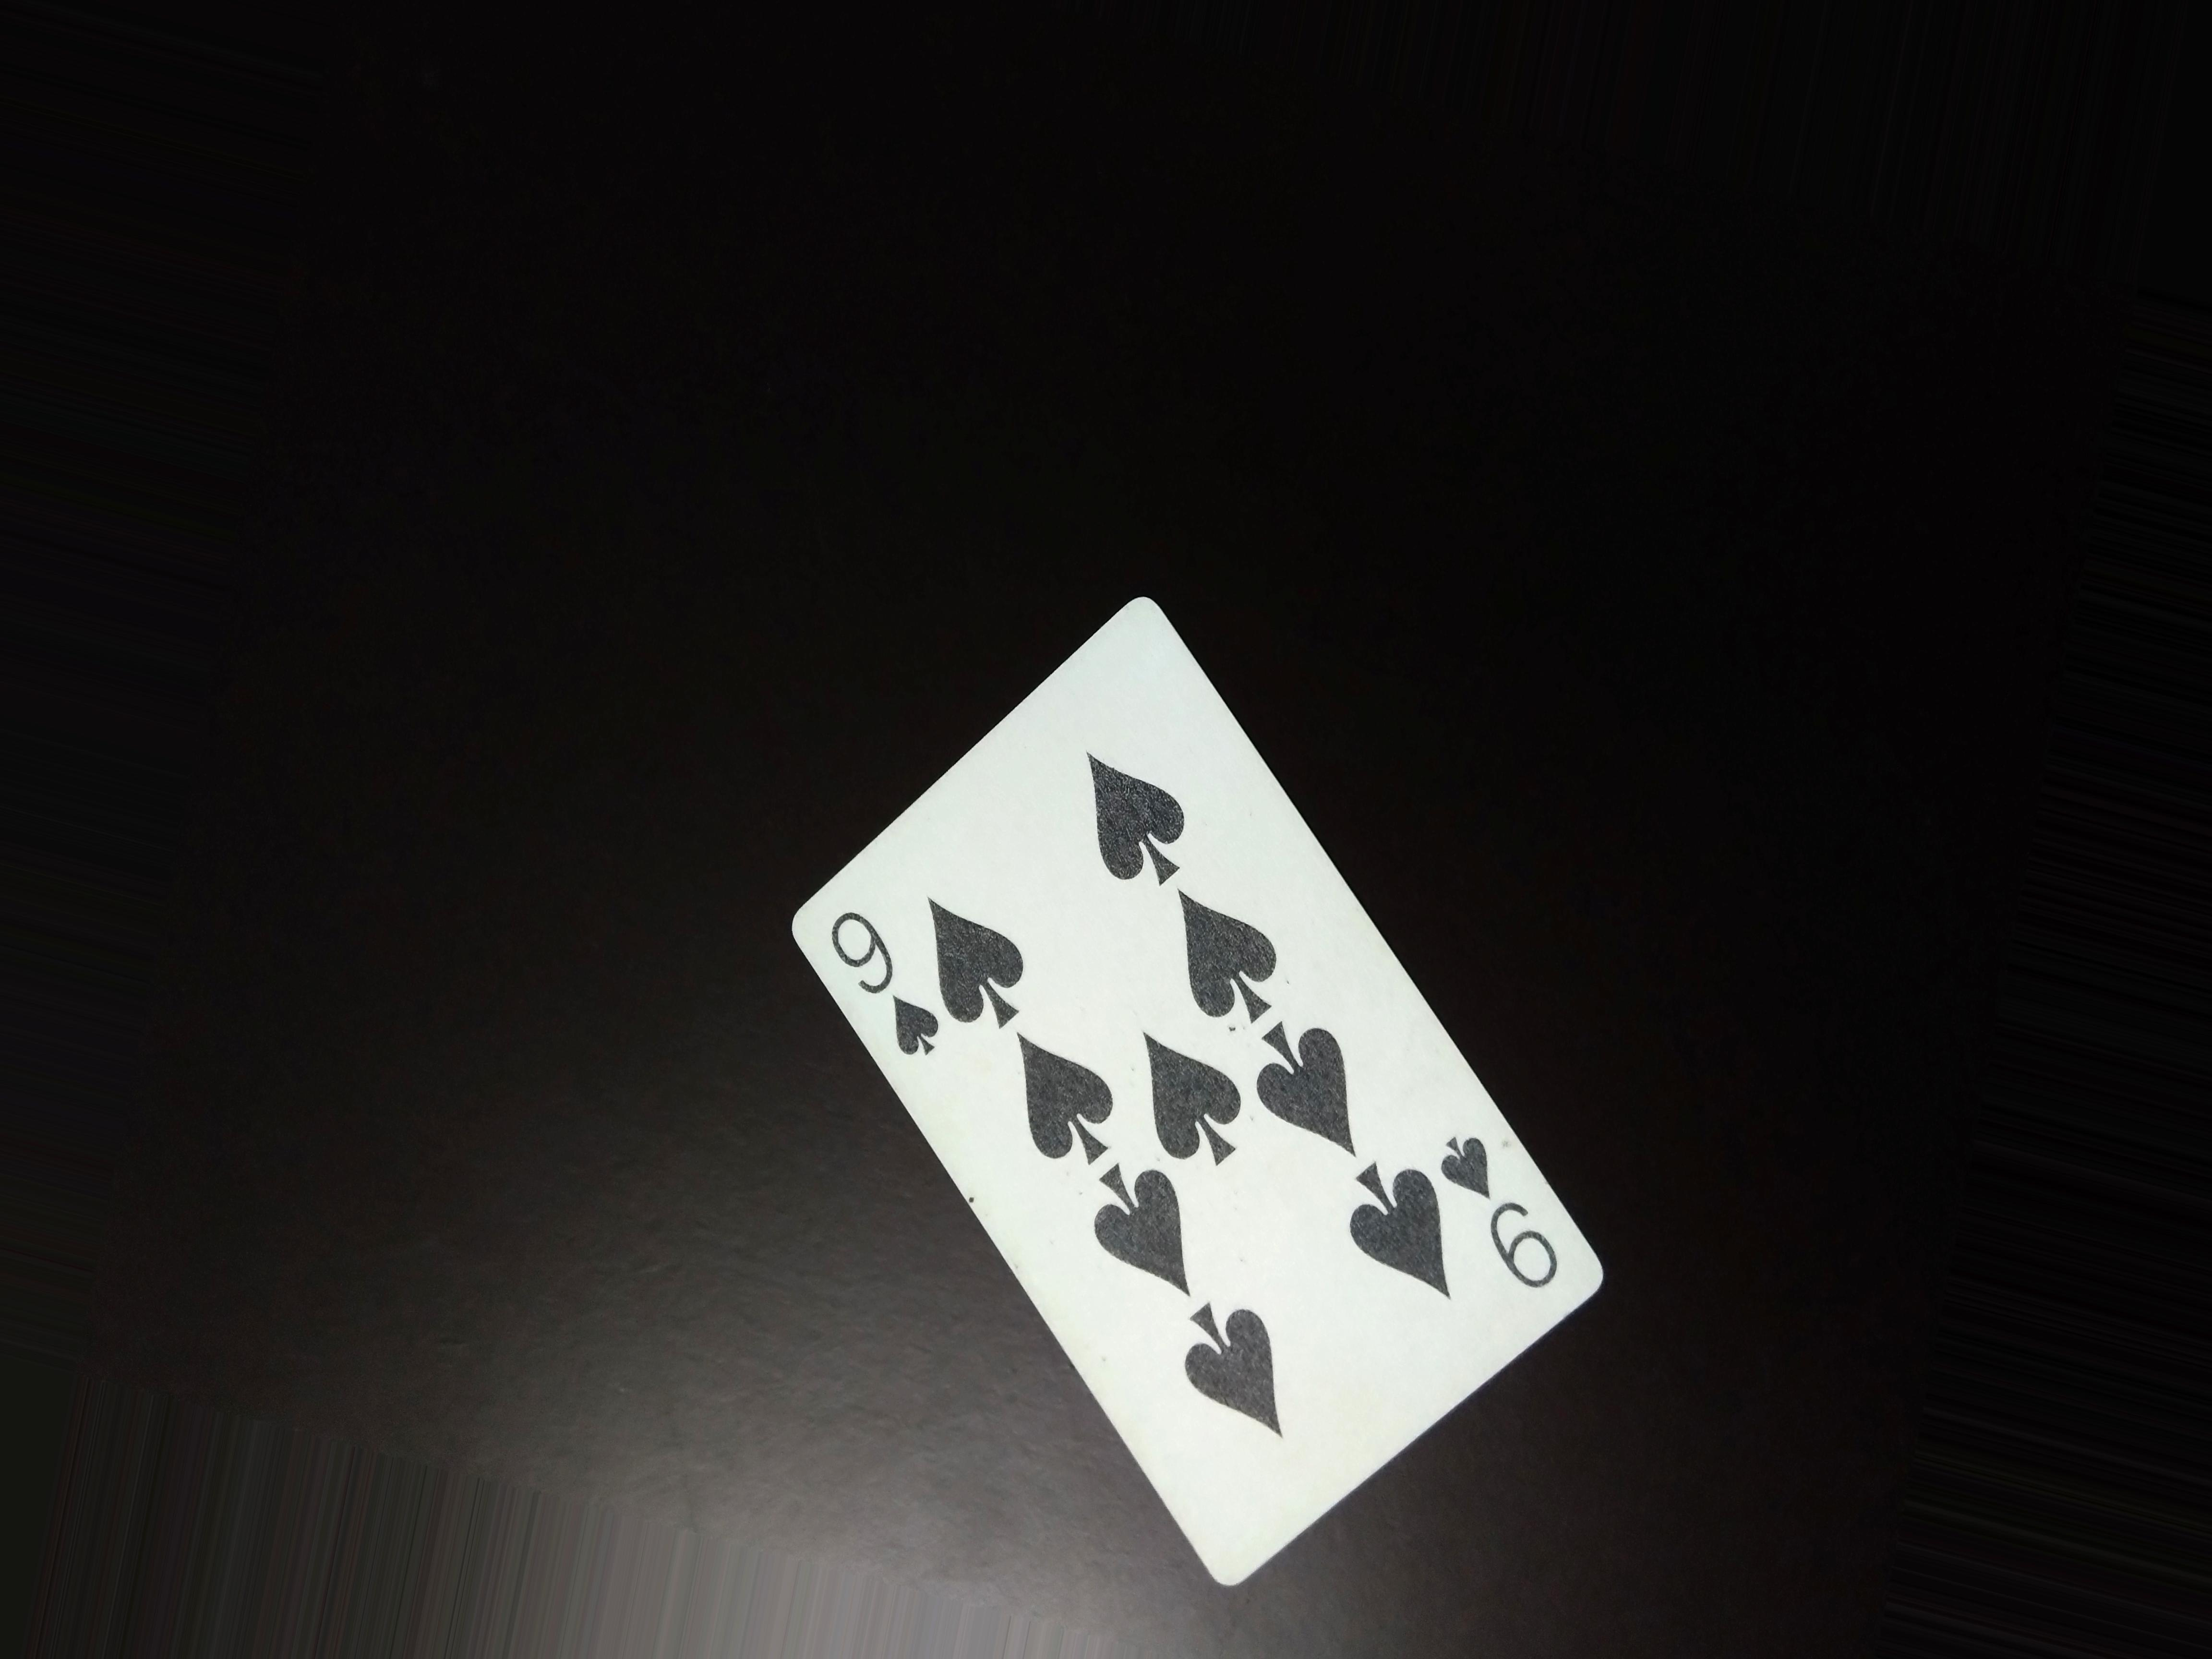9S: (826, 899, 954, 1075)
